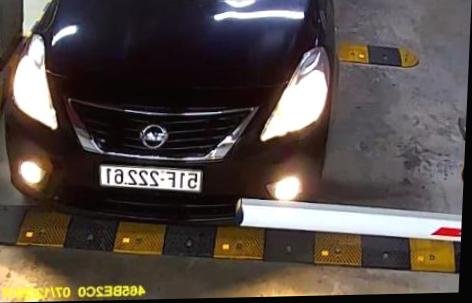License_Plate: (97, 159, 210, 201)
